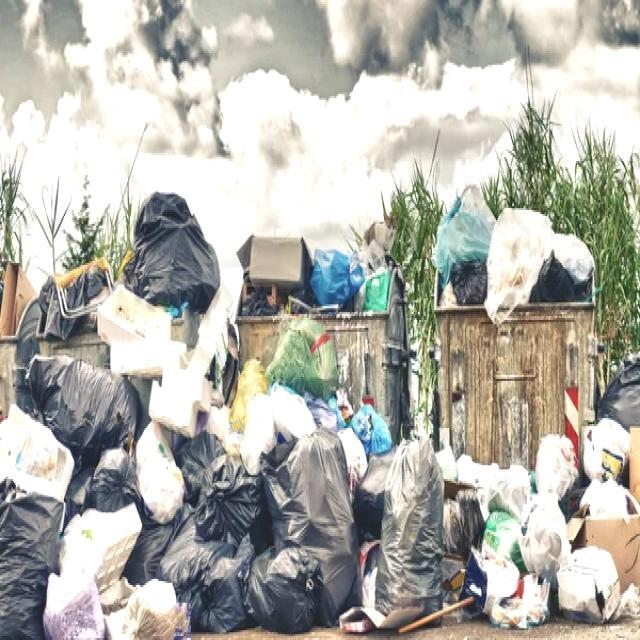high trash: (0, 194, 640, 639)
